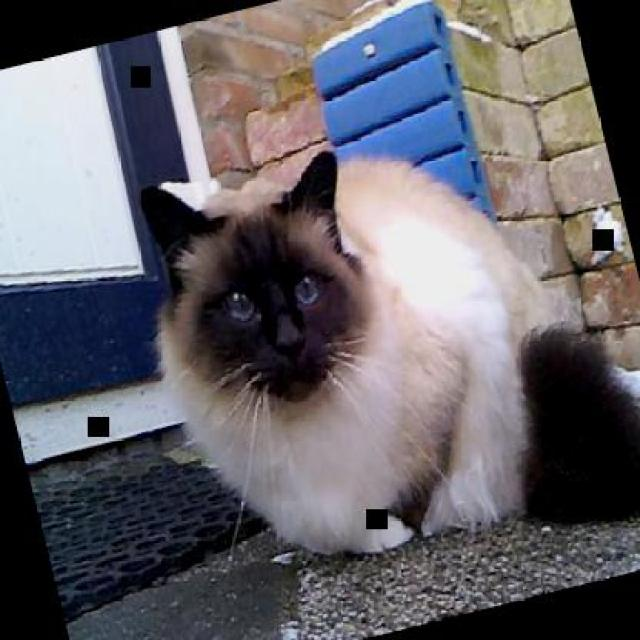cat: (121, 88, 638, 612)
